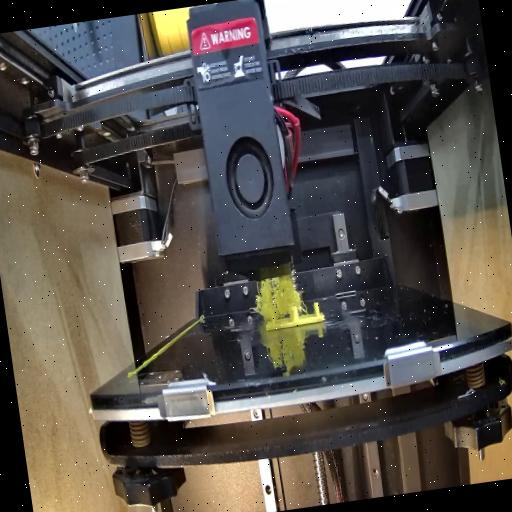spaghetti: (248, 268, 305, 322)
